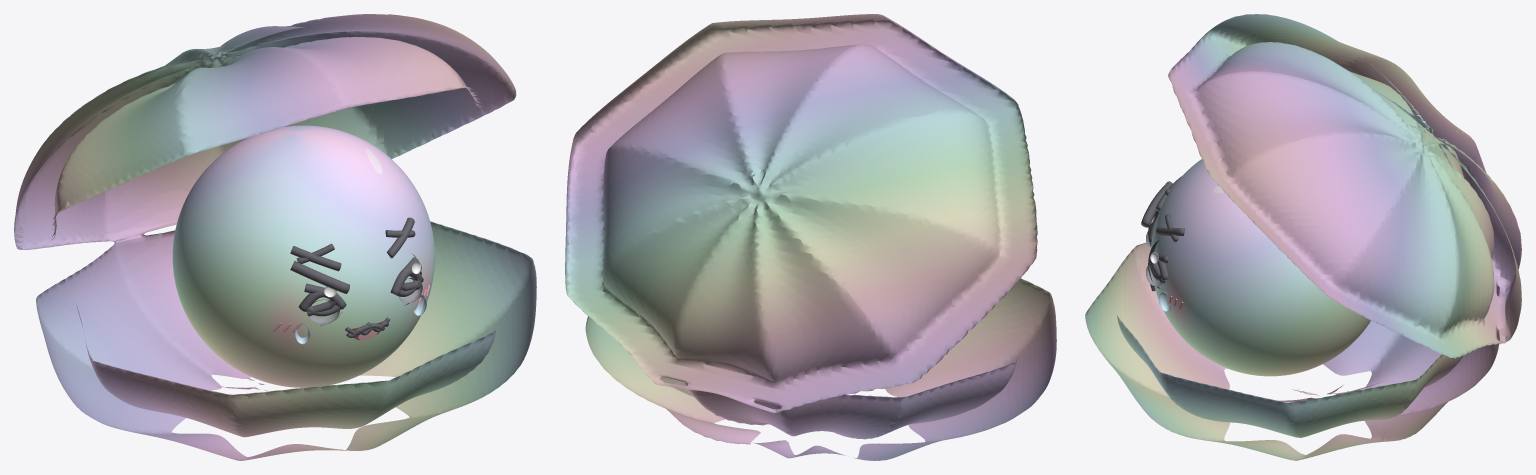
File: s_pearl_slime.glb
The picture shows the model from 3 angles, left to right: view 1: azimuth 30°, elevation 25°; view 2: azimuth 150°, elevation 25°; view 3: azimuth 270°, elevation 25°; orthographic projection. The views are drawn at different scales.
Parts seen in each view (by area): view 1: BodyMesh, face_brows_angry, face_eyes_happy, face_eyes_normal, face_brow_smug, face_eyes_strain; view 2: BodyMesh; view 3: BodyMesh, face_eyes_normal.
Boxes of the visible parts, x1=… form: BodyMesh: x1=14, y1=14, x2=536, y2=460; face_brows_angry: x1=290, y1=217, x2=414, y2=271; face_eyes_happy: x1=298, y1=269, x2=423, y2=311; face_eyes_normal: x1=308, y1=253, x2=422, y2=325; face_brow_smug: x1=290, y1=261, x2=349, y2=293; face_eyes_strain: x1=304, y1=257, x2=420, y2=316; BodyMesh: x1=565, y1=14, x2=1056, y2=460; BodyMesh: x1=1085, y1=14, x2=1521, y2=460; face_eyes_normal: x1=1146, y1=211, x2=1161, y2=288.
Size of the model in its own units: 2.58 by 1.97 by 2.19.
